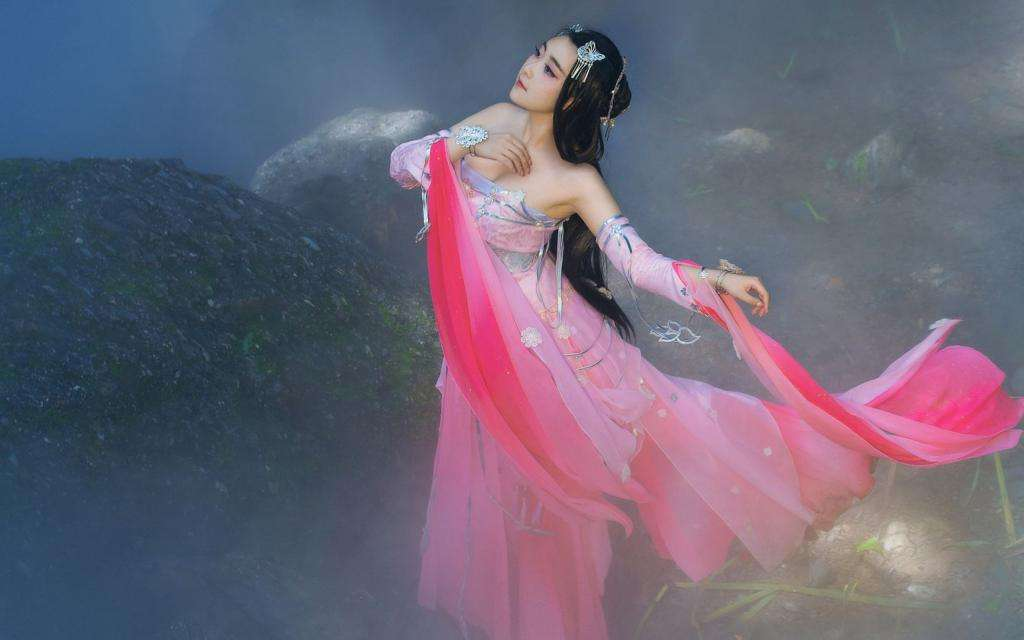person: (363, 7, 795, 564)
